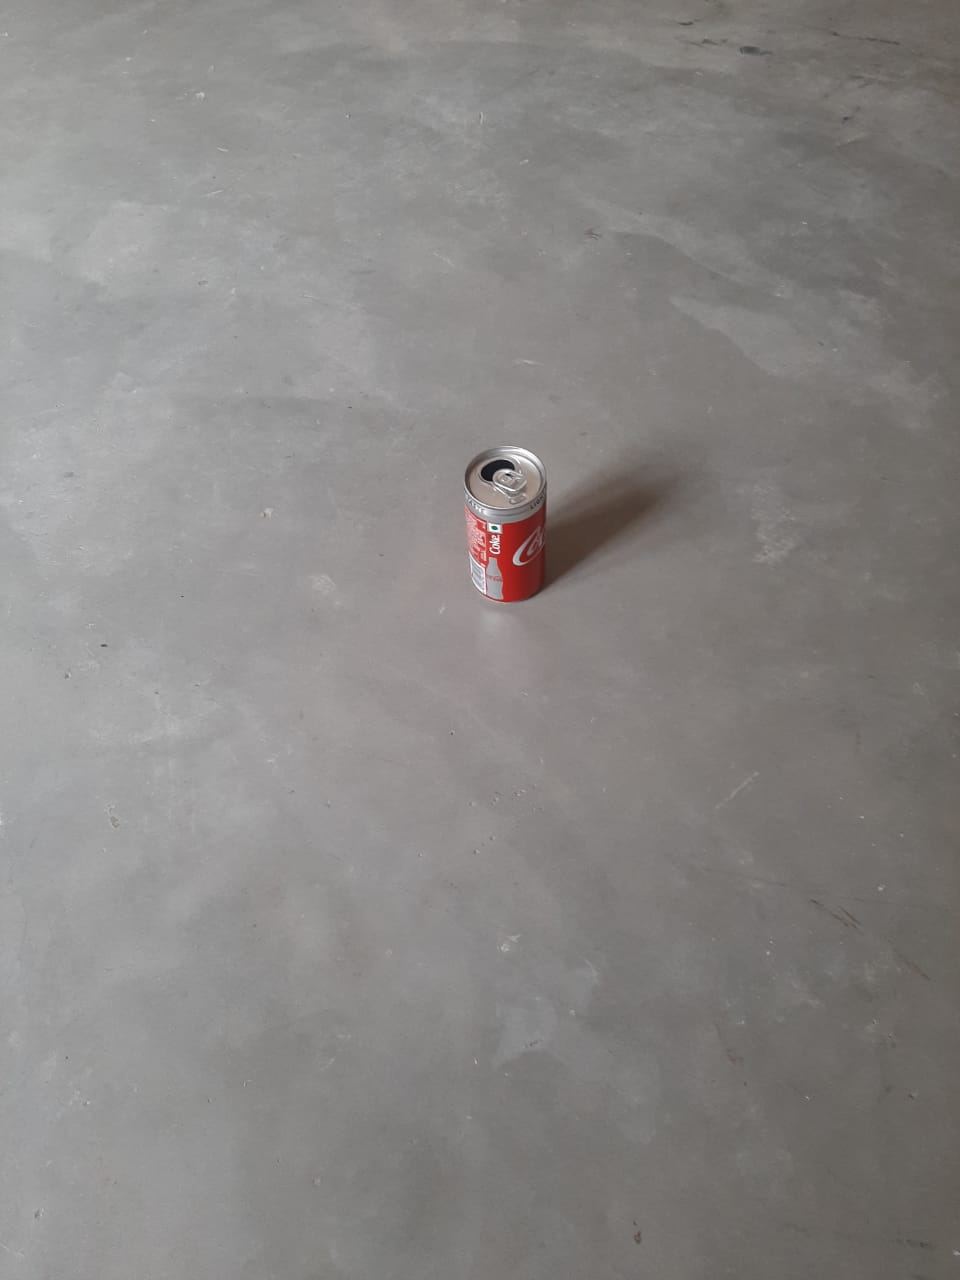Can: (462, 442, 548, 603)
